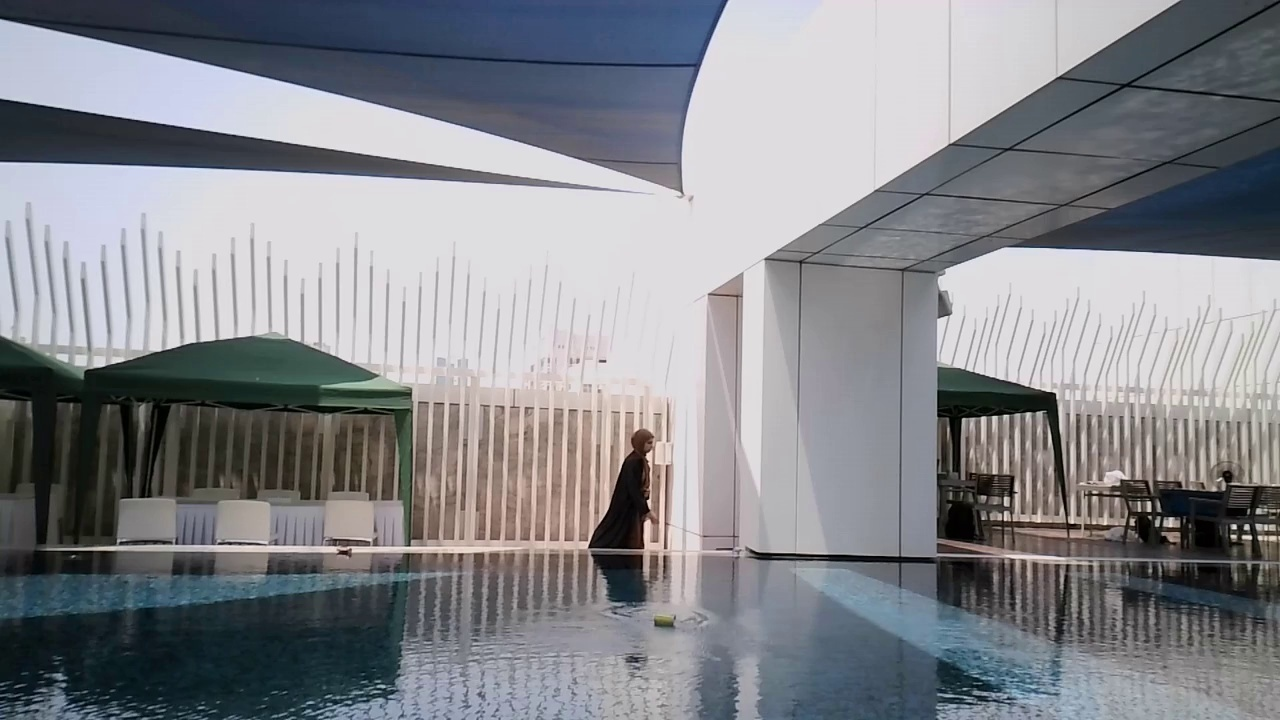debris: (651, 607, 677, 634), (333, 541, 356, 561)
